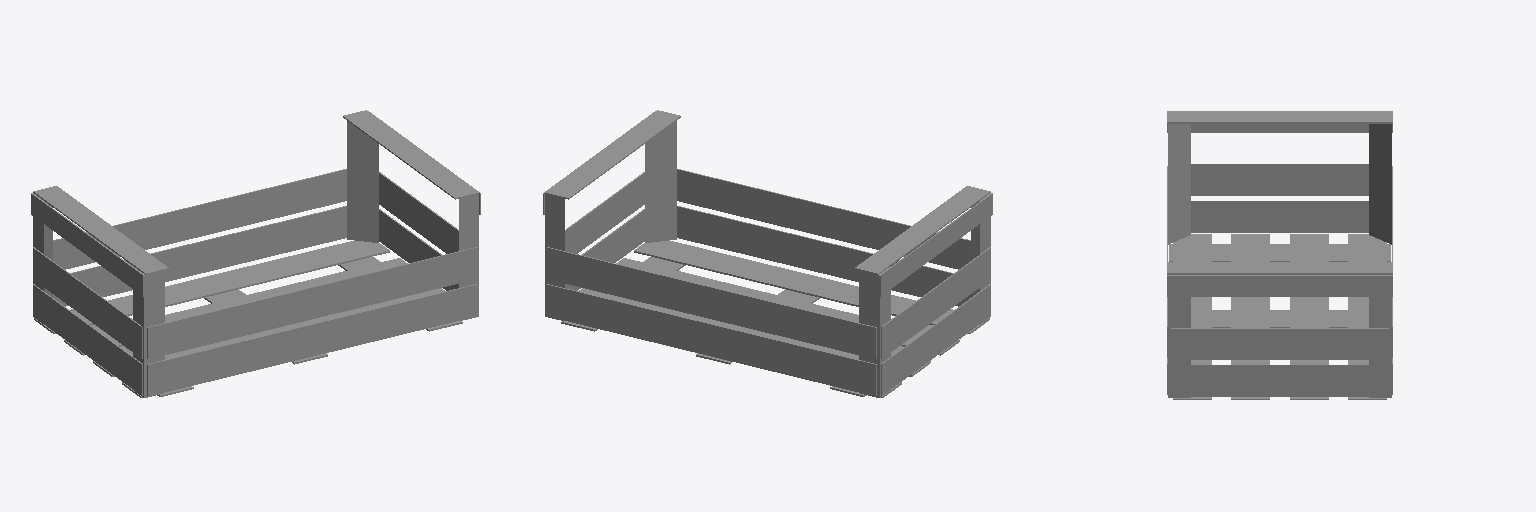
The model's file is Crate-01_blend.obj.
3 views of the same model, side by side, from view 1: azimuth 30°, elevation 25°; view 2: azimuth 150°, elevation 25°; view 3: azimuth 270°, elevation 25° (orthographic).
Visible parts, largest first — view 1: Crate_01; view 2: Crate_01; view 3: Crate_01.
Part boxes in pixels (left/top/right/bottom): Crate_01: left=31, top=110, right=480, bottom=397; Crate_01: left=543, top=110, right=992, bottom=397; Crate_01: left=1167, top=111, right=1392, bottom=399.
Bounding box in the file's own units: 0.502 × 0.182 × 0.292.